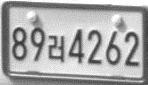2: (85, 29, 103, 65), (124, 30, 140, 67)
4: (67, 28, 86, 64)
6: (105, 30, 121, 65)
8: (11, 26, 27, 60)
9: (30, 27, 46, 61)
러: (47, 34, 66, 62)
